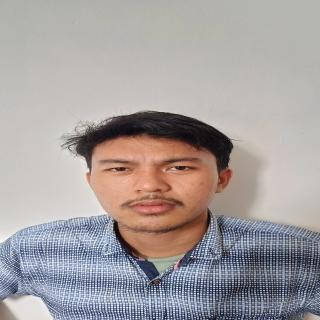Marah: (81, 138, 236, 240)
